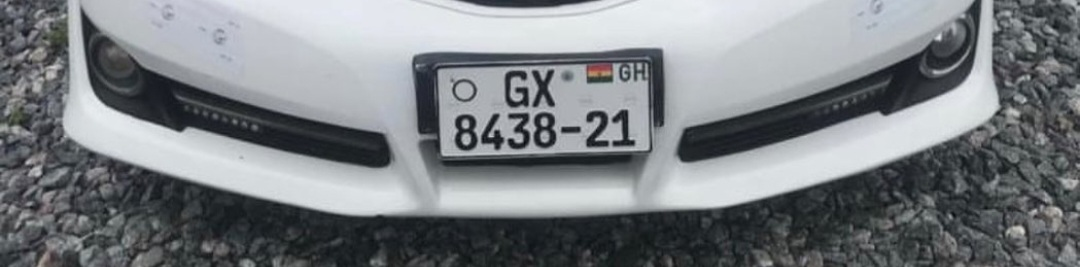number_ plates: (434, 55, 652, 161)
